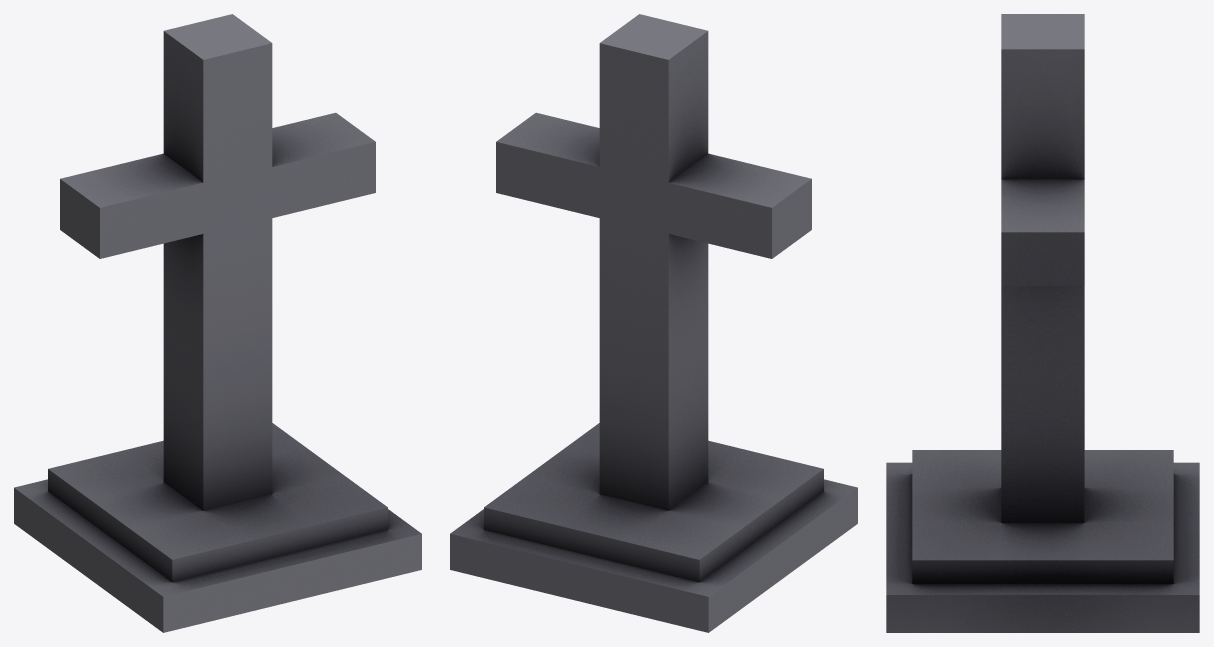
File: Tomb 1.FBX
The picture shows the model from 3 angles, left to right: view 1: azimuth 30°, elevation 25°; view 2: azimuth 150°, elevation 25°; view 3: azimuth 270°, elevation 25°; orthographic projection. The views are drawn at different scales.
Visible parts, largest first — view 1: Box004; view 2: Box004; view 3: Box004.
Part boxes in pixels (x1,y1,x2,y2): Box004: (14, 14, 421, 632); Box004: (450, 14, 857, 632); Box004: (886, 14, 1199, 632).
Bounding box in the file's own units: 32 × 56.5 × 30.
1 material, 1 textured.
